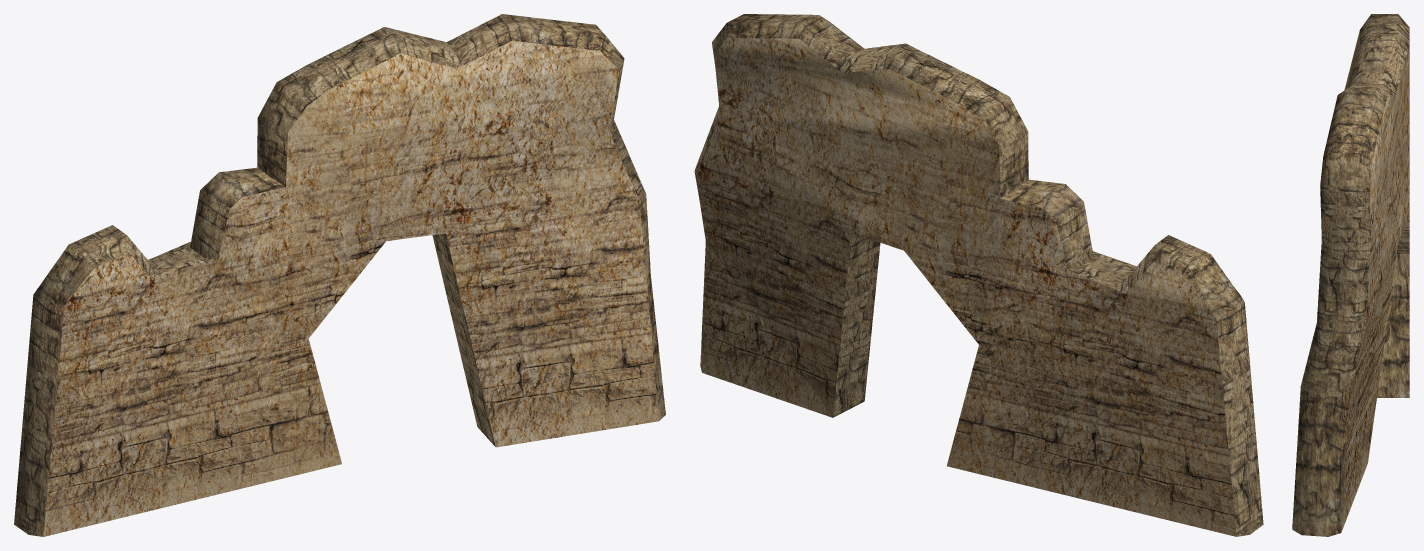
File: Ruins_Wall_07.fbx
The picture shows the model from 3 angles, left to right: view 1: azimuth 30°, elevation 25°; view 2: azimuth 150°, elevation 25°; view 3: azimuth 270°, elevation 25°; orthographic projection. The views are drawn at different scales.
Visible parts, largest first — view 1: Ruins_Wall_07; view 2: Ruins_Wall_07; view 3: Ruins_Wall_07.
Part boxes in pixels (x1,y1,x2,y2): Ruins_Wall_07: (14,14,665,536); Ruins_Wall_07: (694,14,1263,536); Ruins_Wall_07: (1292,14,1409,536).
Bounding box in the file's own units: 5.7 × 3.66 × 0.9998.
2 materials, 2 textured.
